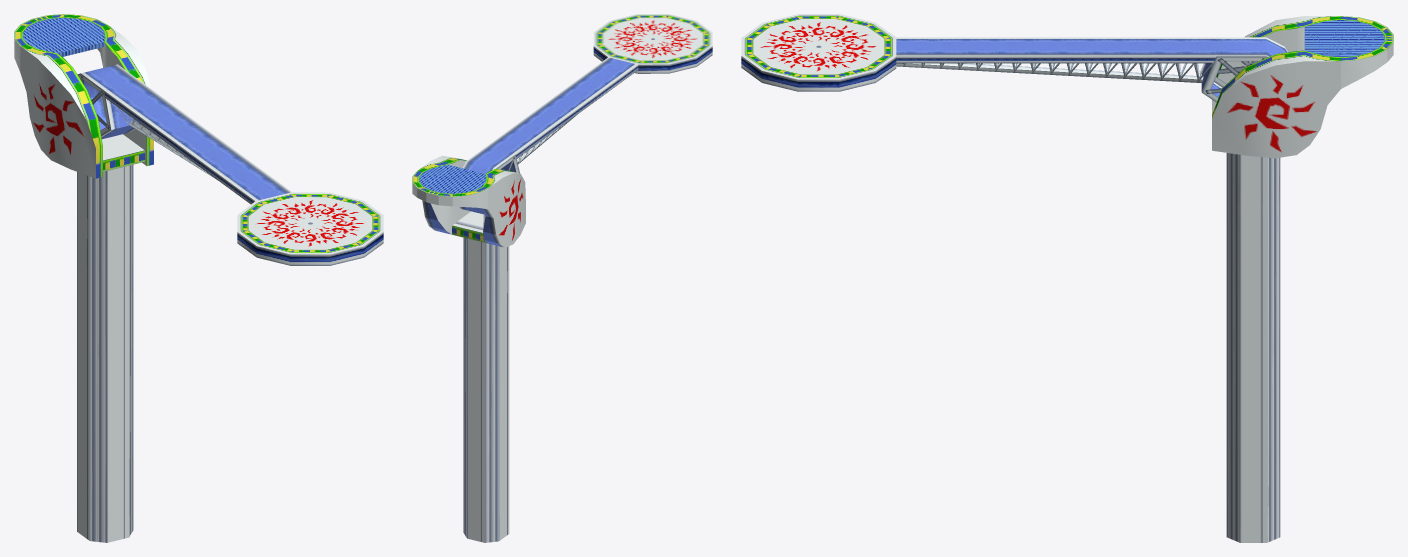
File: crane180scene1.dae
3 views of the same model, side by side, from view 1: azimuth 30°, elevation 25°; view 2: azimuth 150°, elevation 25°; view 3: azimuth 270°, elevation 25° (orthographic). The views are drawn at different scales.
Parts seen in each view (by area): view 1: n0b0; view 2: n0b0; view 3: n0b0.
Boxes of the visible parts, x1,y1,x2,y2 form: n0b0: (14,14,383,542); n0b0: (412,14,712,542); n0b0: (741,14,1393,542).
Bounding box in the file's own units: 580 × 2031 × 2436.
Materials: 1 (1 with a texture image).
